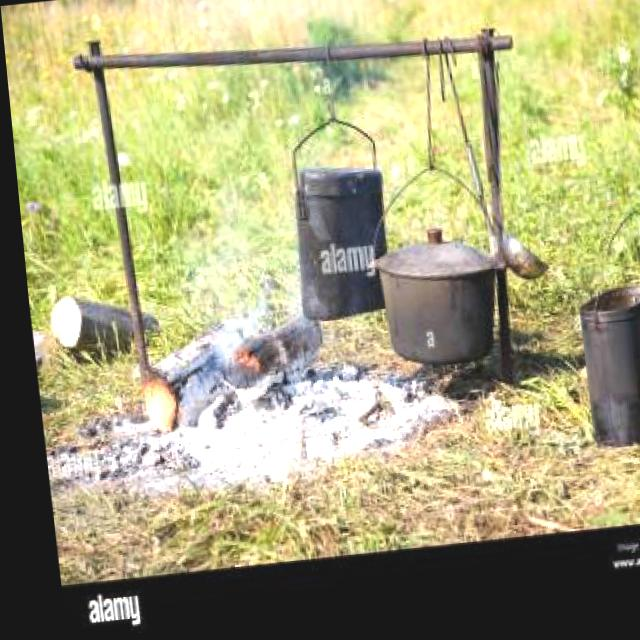Fire: (226, 347, 266, 387)
